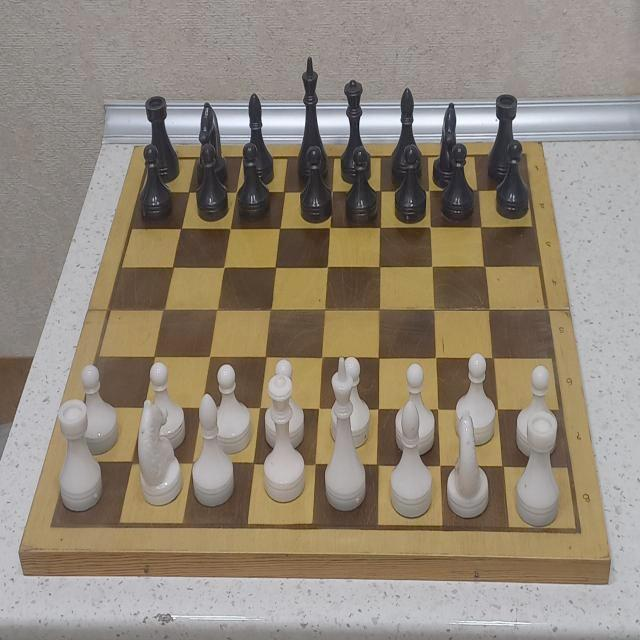chess-table-corners: (561, 513, 596, 552), (33, 508, 65, 544), (522, 148, 531, 160)
